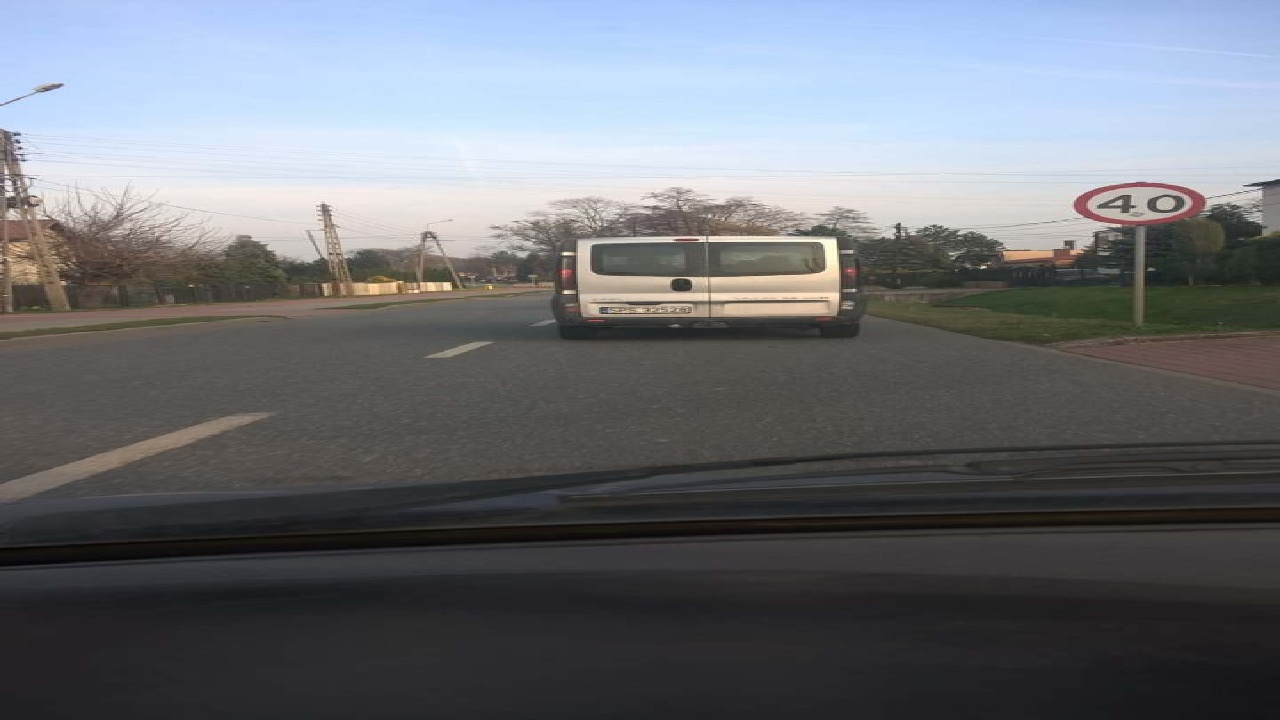B33_40: (1067, 175, 1210, 231)
